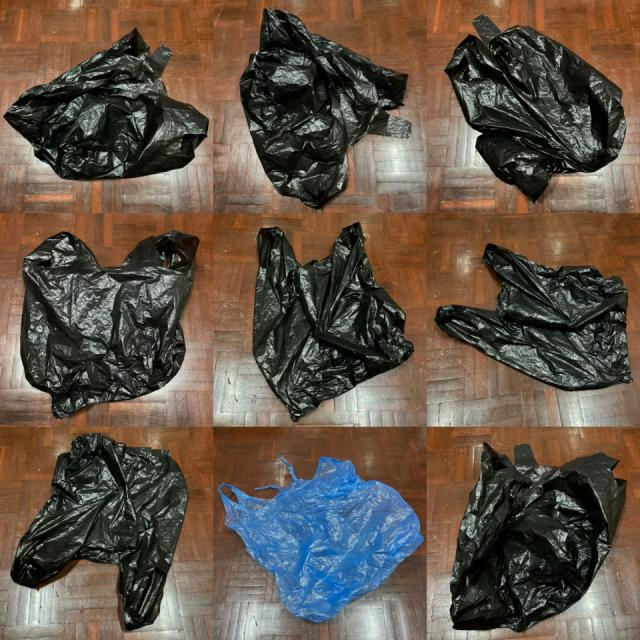Single-layer Plastic: (10, 434, 188, 630), (240, 9, 411, 209), (445, 15, 626, 201), (219, 458, 424, 622), (21, 231, 199, 418), (450, 444, 626, 631), (254, 222, 414, 421), (5, 29, 209, 180), (435, 244, 632, 389)
